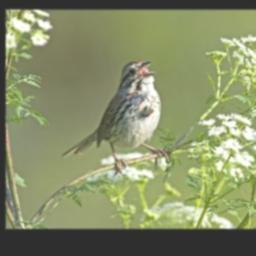Sparrow: (60, 58, 174, 178)
